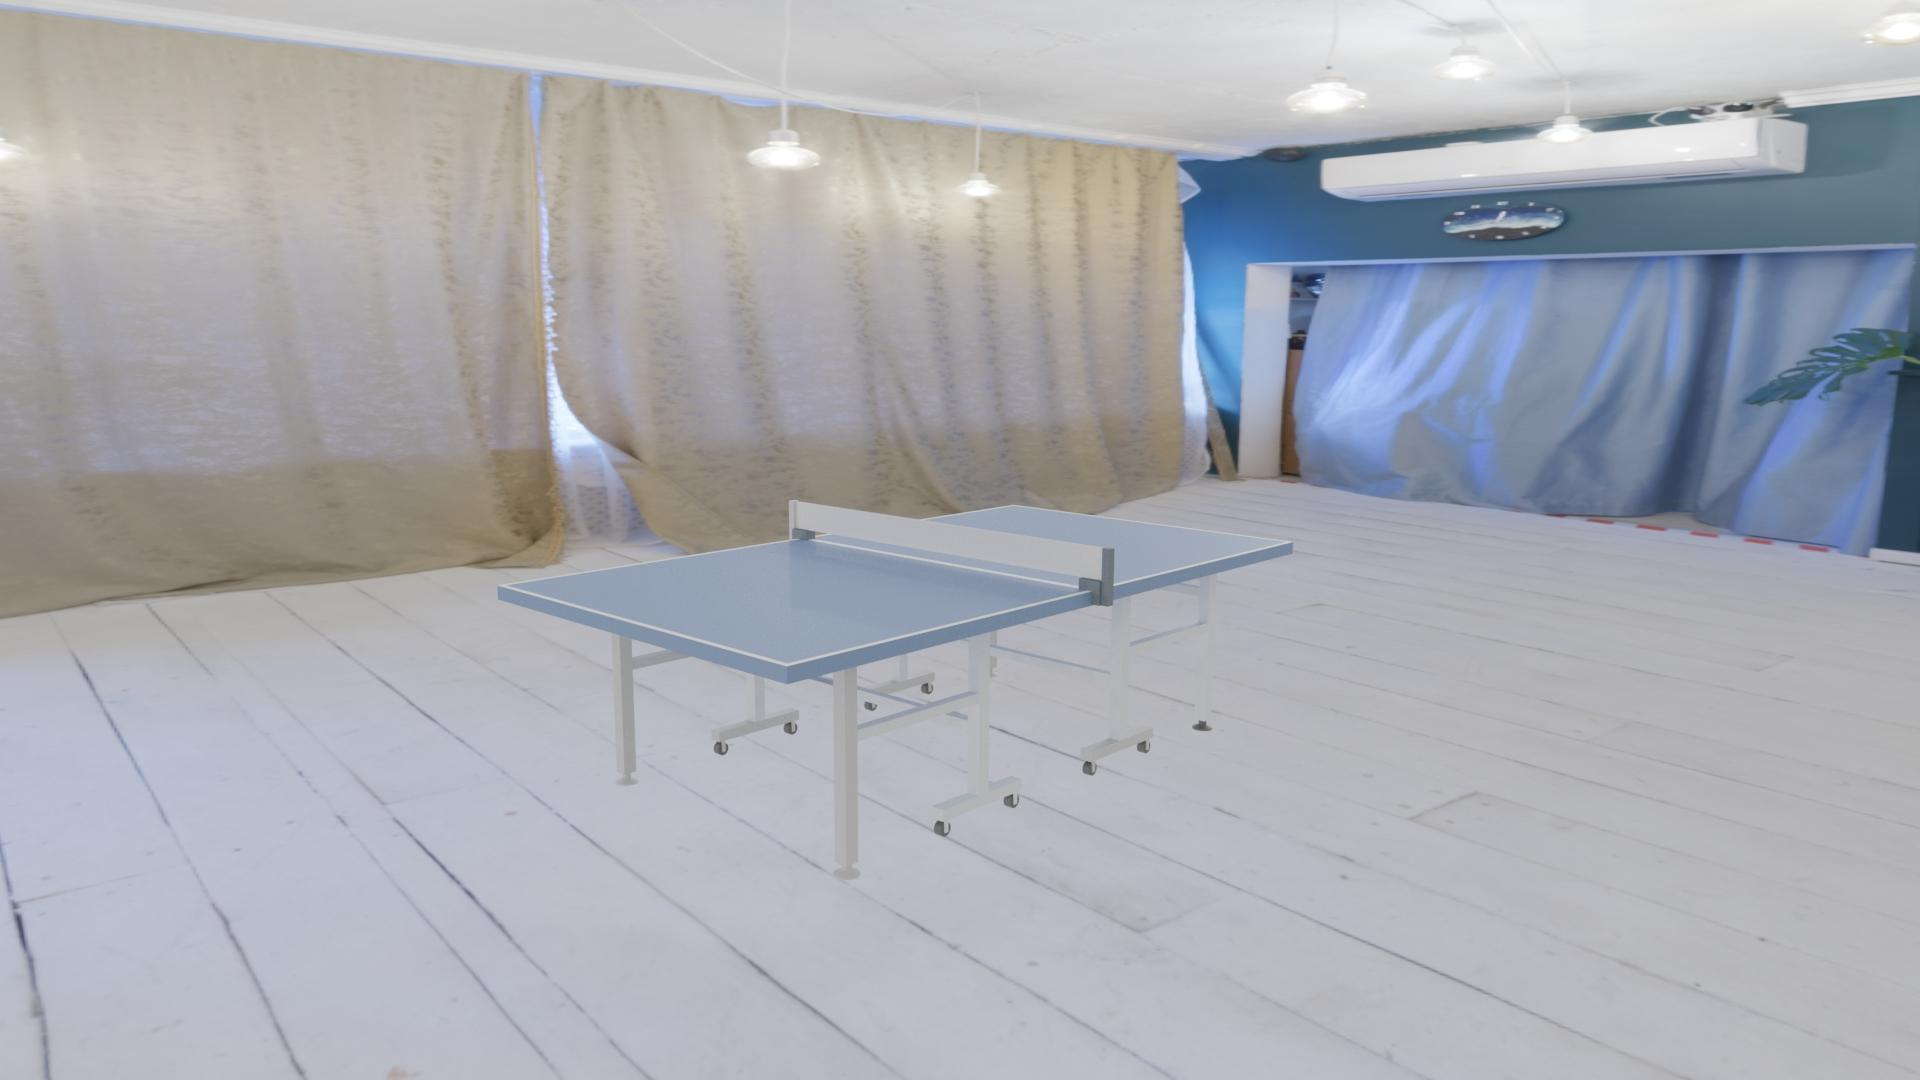table: (505, 506, 1287, 663)
